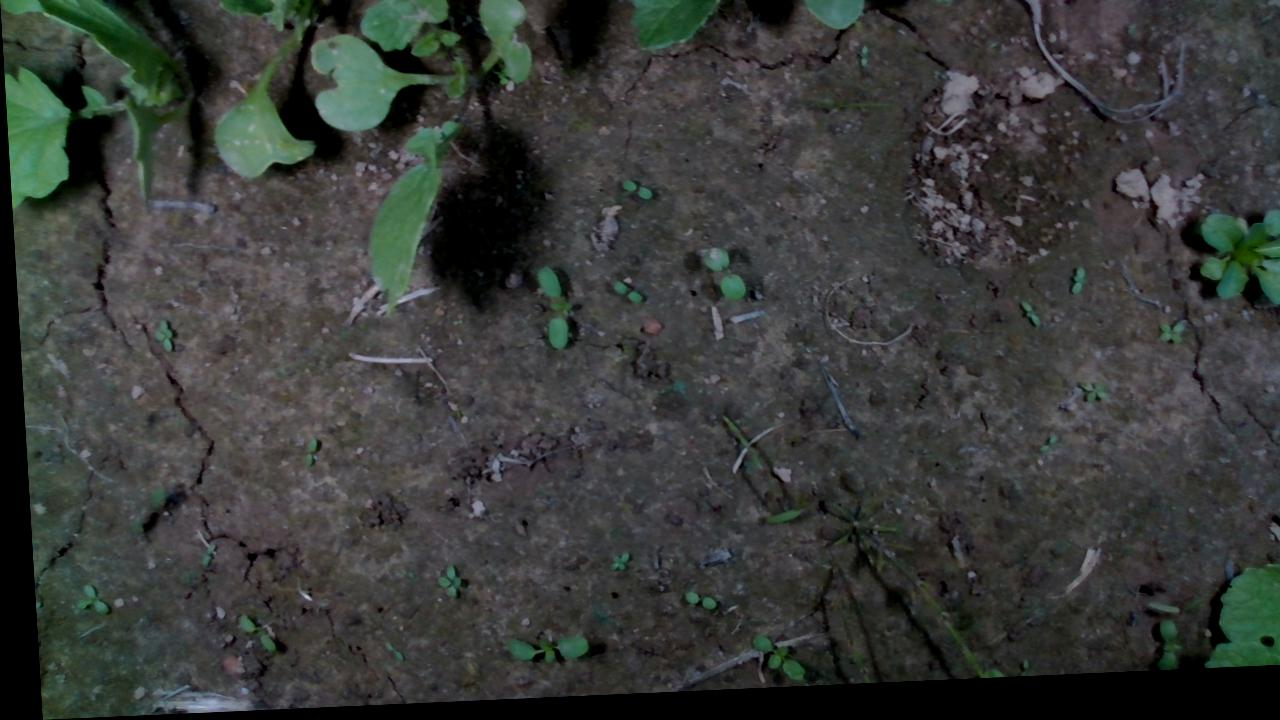weed: (529, 267, 569, 356), (742, 635, 798, 691), (494, 635, 581, 669), (694, 250, 744, 309), (226, 612, 271, 657), (61, 580, 104, 617), (425, 562, 457, 602), (600, 281, 641, 310), (145, 318, 172, 355), (673, 592, 711, 618), (1070, 386, 1102, 415), (615, 183, 652, 207), (1011, 307, 1037, 339), (1149, 331, 1180, 355), (1062, 272, 1083, 305), (293, 439, 314, 470), (189, 543, 211, 570), (599, 555, 623, 576), (1029, 442, 1051, 463)
